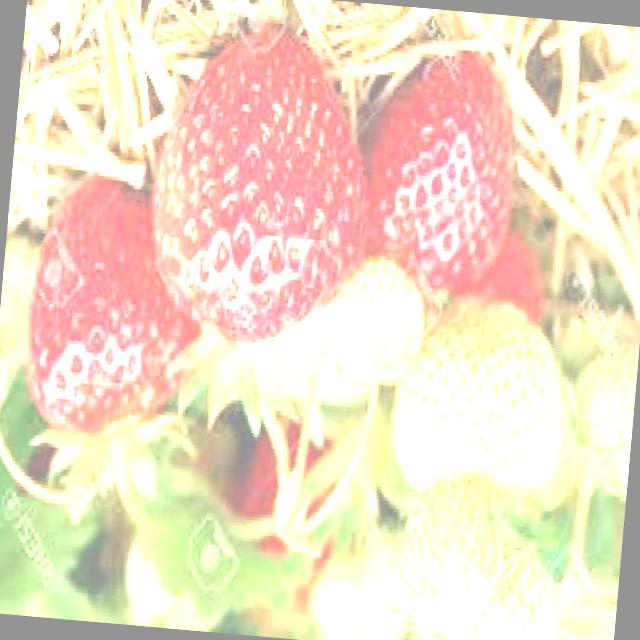Strawberry: (142, 28, 382, 355), (18, 178, 214, 444), (358, 48, 522, 300), (388, 292, 574, 500), (401, 484, 504, 618), (331, 252, 428, 383), (448, 540, 562, 640), (572, 336, 640, 494)
